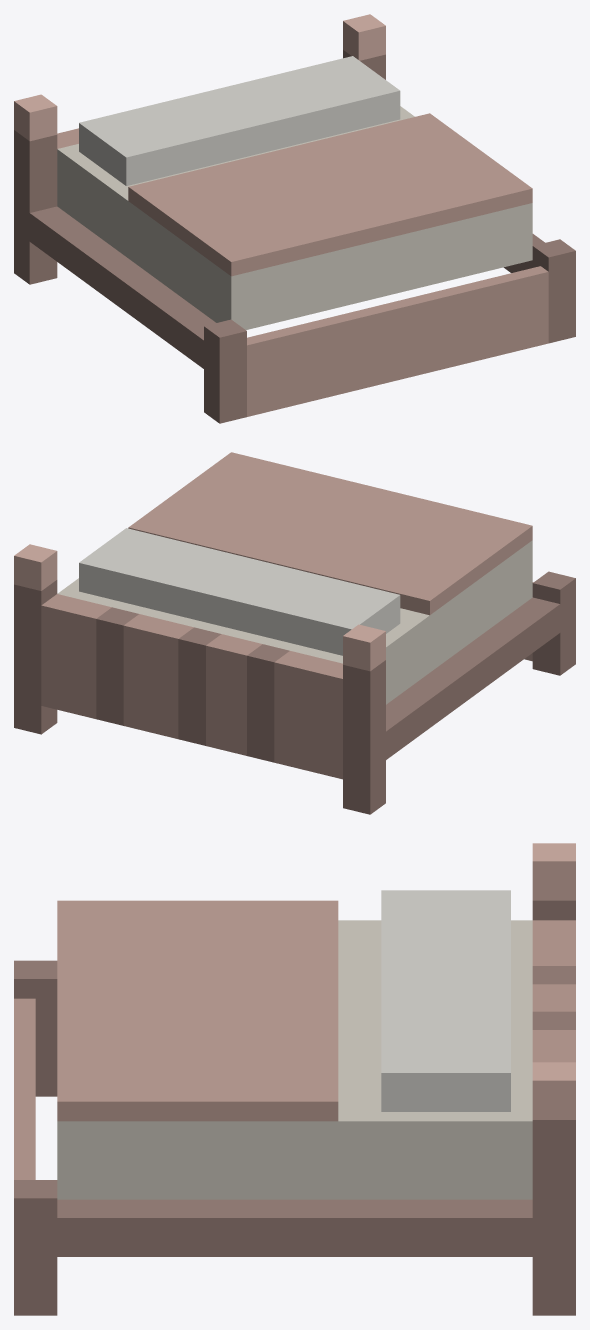
File: cama_doble_01.glb
3 renders of one model, top to bottom at view 1: azimuth 30°, elevation 25°; view 2: azimuth 150°, elevation 25°; view 3: azimuth 270°, elevation 25°, orthographic. The views are drawn at different scales.
Visible parts, largest first — view 1: cama_doble; view 2: cama_doble; view 3: cama_doble.
Boxes of the visible parts, <box> form: cama_doble: <box>14,14,575,423</box>; cama_doble: <box>14,452,575,814</box>; cama_doble: <box>14,843,575,1315</box>.
Bounding box in the file's own units: 2 × 0.9231 × 2.
